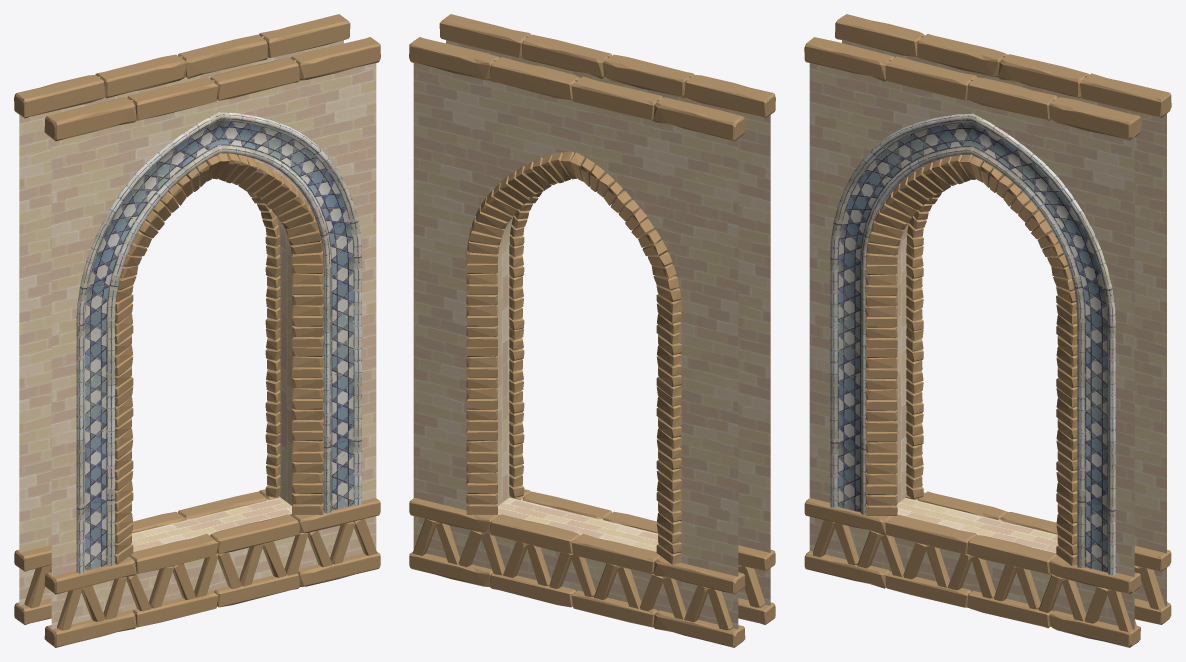
The model's file is SM_wall_arch_01.fbx.
3 views of the same model, side by side, from view 1: azimuth 30°, elevation 25°; view 2: azimuth 150°, elevation 25°; view 3: azimuth 330°, elevation 25° (orthographic).
Parts seen in each view (by area): view 1: Object32728; view 2: Object32728; view 3: Object32728.
Boxes of the visible parts, left/top/right/bottom form: Object32728: left=14, top=14, right=380, bottom=647; Object32728: left=409, top=14, right=775, bottom=647; Object32728: left=804, top=14, right=1171, bottom=647.
Size of the model in its own units: 129 by 198 by 28.83.
